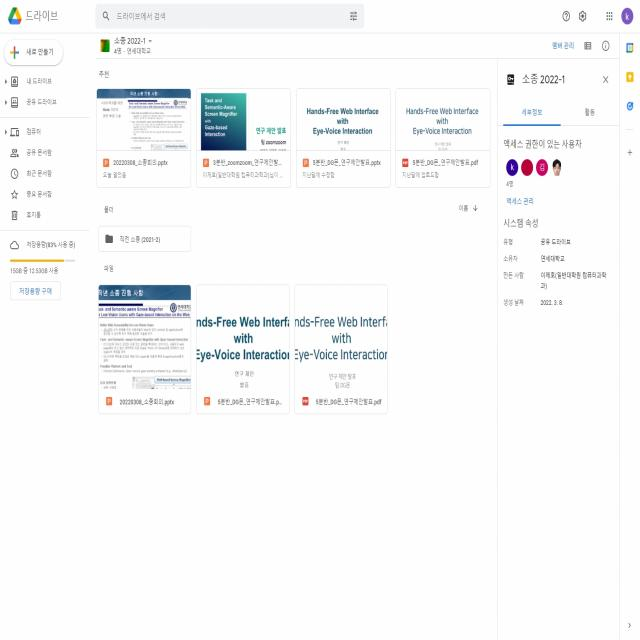menu-bar: (557, 1, 638, 30)
side-panel: (497, 61, 617, 328), (1, 33, 90, 308), (619, 36, 640, 180)
